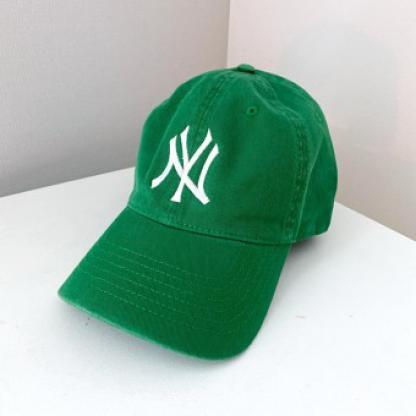cap: (50, 58, 346, 364)
